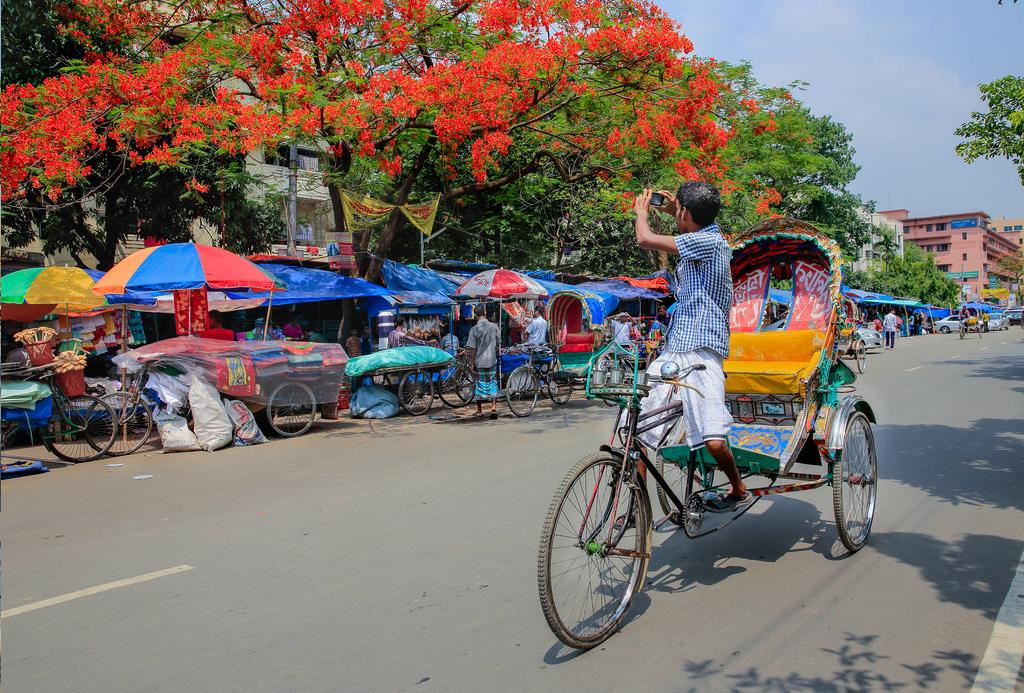Rickshaw: (574, 180, 879, 641), (497, 281, 610, 418), (830, 285, 872, 367), (951, 293, 993, 348)
